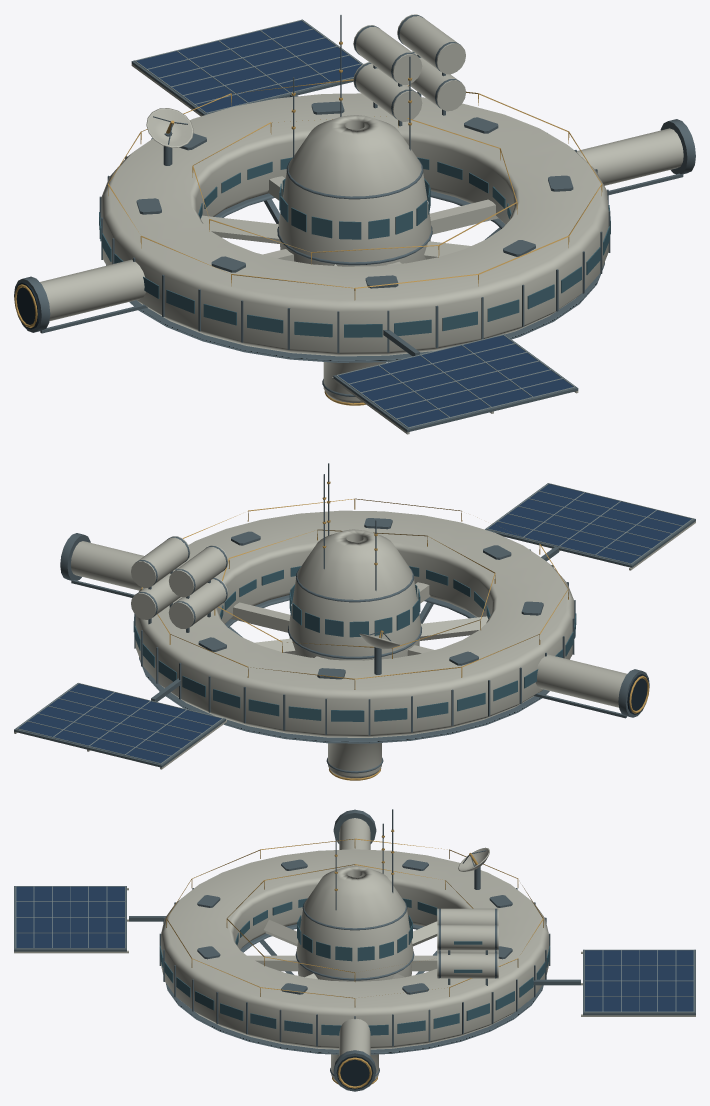
Rendered from orbital_d0_lod1.glb.
The picture shows the model from 3 angles, top to bottom: view 1: azimuth 30°, elevation 25°; view 2: azimuth 150°, elevation 25°; view 3: azimuth 270°, elevation 25°; orthographic projection. The views are drawn at different scales.
Parts seen in each view (by area): view 1: ORBITAL_STRUCTURE, SOLAR_B_SURFACE, SOLAR_A_SURFACE, DISH_SURFACE; view 2: ORBITAL_STRUCTURE, SOLAR_A_SURFACE, SOLAR_B_SURFACE; view 3: ORBITAL_STRUCTURE, SOLAR_B_SURFACE, SOLAR_A_SURFACE, DISH_SURFACE.
Boxes of the visible parts, box(x1,y1,x2,y2) form: ORBITAL_STRUCTURE: box(14, 14, 695, 405); SOLAR_B_SURFACE: box(332, 334, 578, 434); SOLAR_A_SURFACE: box(131, 19, 362, 116); DISH_SURFACE: box(146, 108, 193, 147); ORBITAL_STRUCTURE: box(60, 463, 649, 780); SOLAR_A_SURFACE: box(14, 683, 226, 769); SOLAR_B_SURFACE: box(485, 483, 695, 570); ORBITAL_STRUCTURE: box(129, 809, 580, 1091); SOLAR_B_SURFACE: box(14, 886, 128, 953); SOLAR_A_SURFACE: box(581, 949, 695, 1016); DISH_SURFACE: box(458, 847, 489, 871).
Bounding box in the file's own units: 61.76 × 32 × 72.4.
